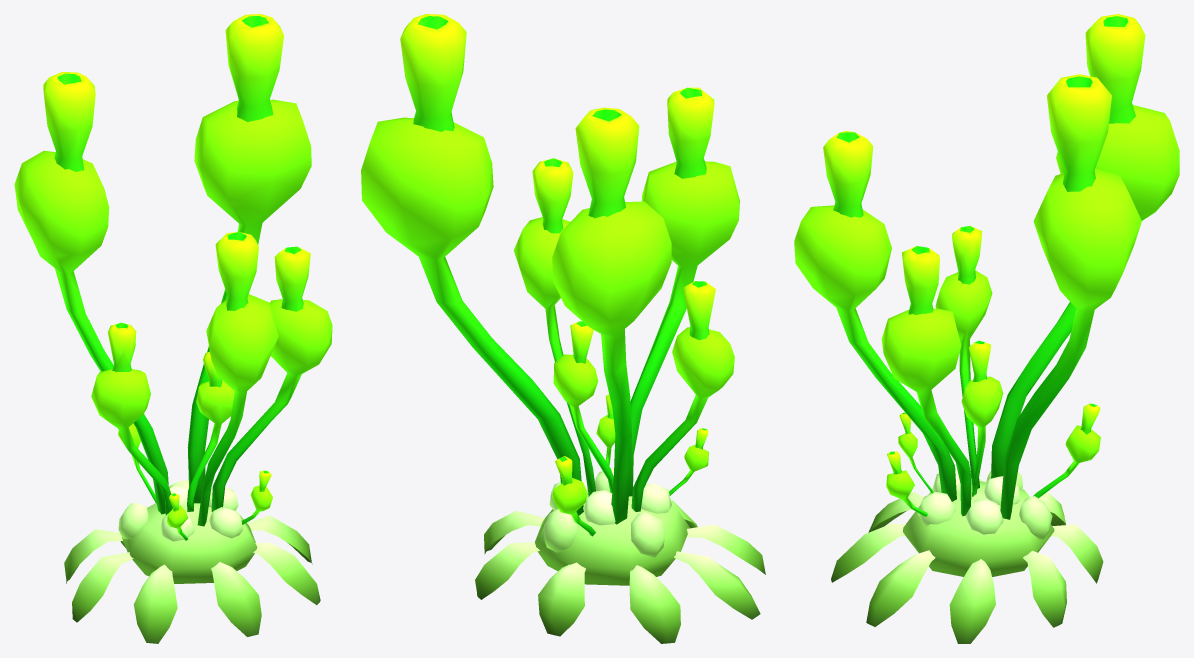
Rendered from squishy_succulent.glb.
3 views of the same model, side by side, from view 1: azimuth 30°, elevation 25°; view 2: azimuth 150°, elevation 25°; view 3: azimuth 270°, elevation 25° (orthographic). The views are drawn at different scales.
Parts seen in each view (by area): view 1: Squishy Succulent; view 2: Squishy Succulent; view 3: Squishy Succulent.
Boxes of the visible parts, x1,y1,x2,y2 form: Squishy Succulent: [14, 14, 332, 643]; Squishy Succulent: [361, 14, 765, 643]; Squishy Succulent: [794, 14, 1179, 643].
Size of the model in its own units: 0.9535 by 1.61 by 1.
1 material, 1 textured.
